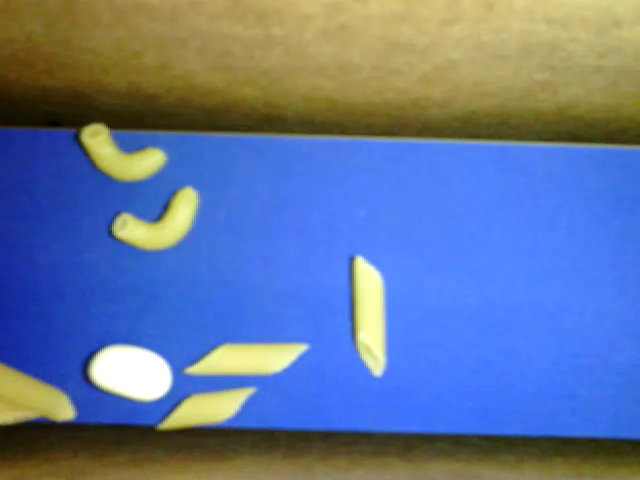elbow: (112, 185, 199, 252), (80, 121, 169, 183)
penne: (1, 361, 78, 419), (155, 386, 256, 430), (184, 342, 311, 376), (353, 253, 387, 378), (1, 399, 49, 427)
